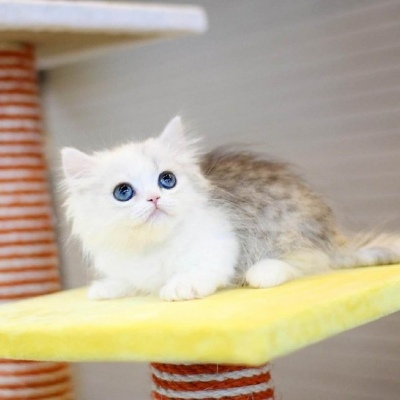cat: (57, 128, 216, 250)
